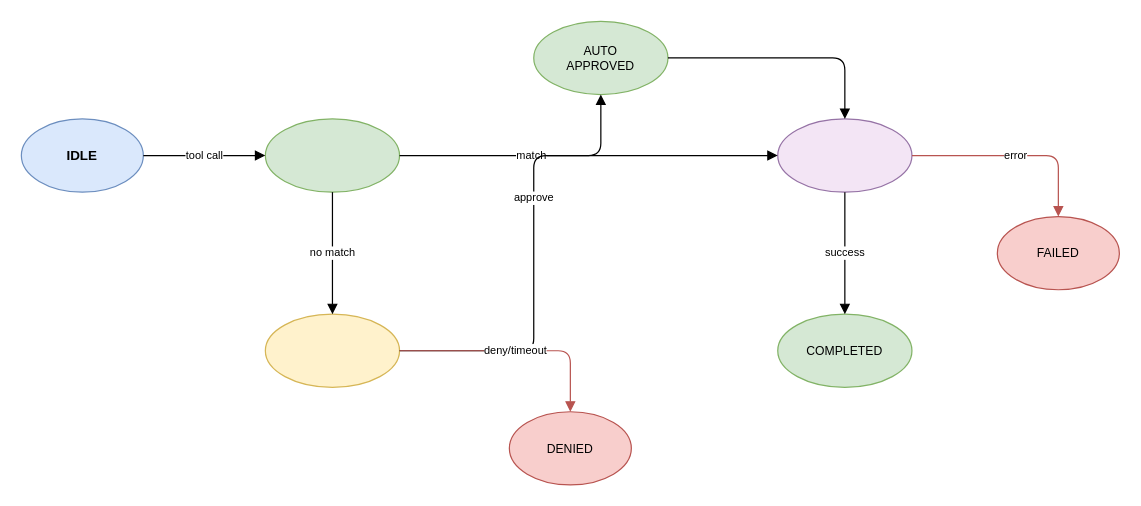
Some shapes in this 1141 by 506 pixel diagram are drawn without their labels. The centre of each missing label's shape, as x and y in pixels:
"EXECUTING" goes at (x=844, y=155).
"PATTERN CHECK" goes at (x=332, y=155).
"PENDING APPROVAL" goes at (x=332, y=350).
